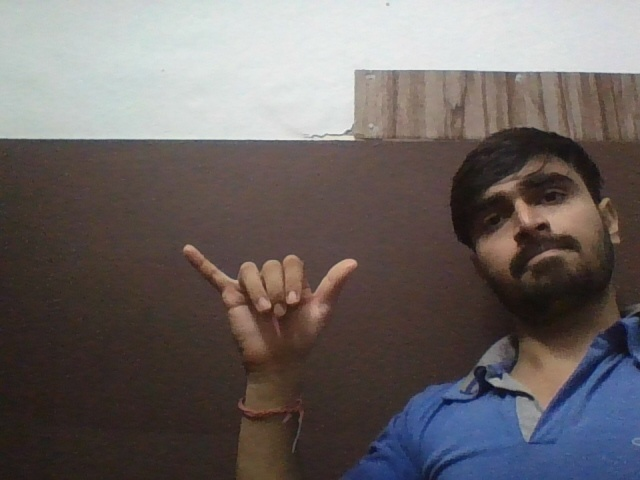Y: (178, 234, 364, 367)
